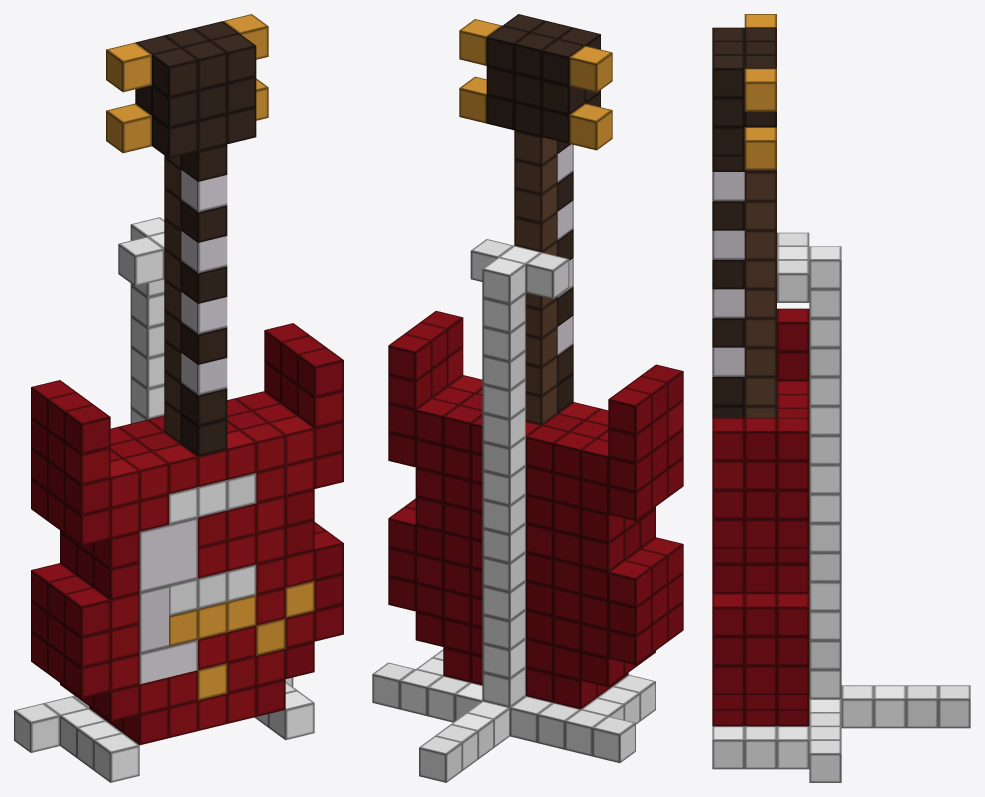
File: guitar_on_stand.glb
3 views of the same model, side by side, from view 1: azimuth 30°, elevation 25°; view 2: azimuth 150°, elevation 25°; view 3: azimuth 270°, elevation 25° (orthographic). The views are drawn at different scales.
Parts seen in each view (by area): view 1: guitar_on_stand; view 2: guitar_on_stand; view 3: guitar_on_stand.
Boxes of the visible parts, <box> form: guitar_on_stand: <box>14,14,343,782</box>; guitar_on_stand: <box>372,14,683,782</box>; guitar_on_stand: <box>712,14,970,782</box>.
Size of the model in its own units: 0.45 by 1.15 by 0.4.
8 materials, 8 textured.
